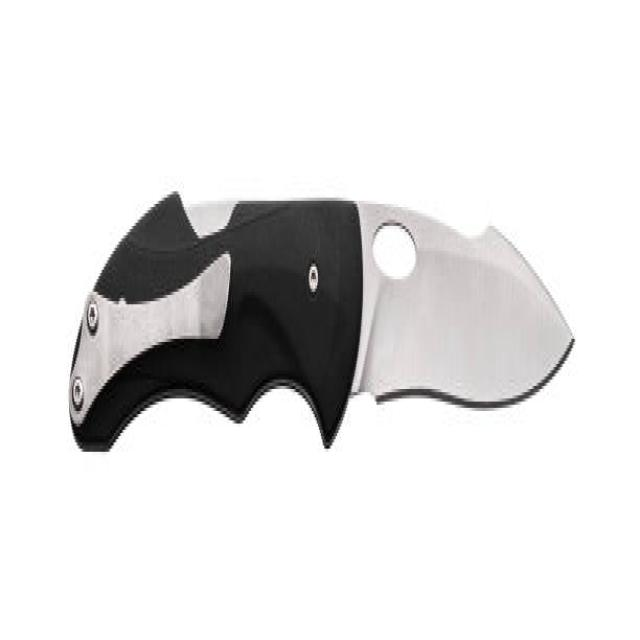knife: (68, 181, 577, 459)
